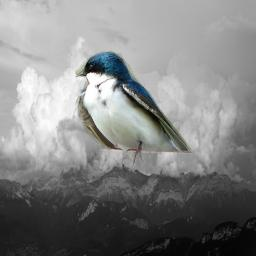Swallow: (75, 50, 193, 170)
